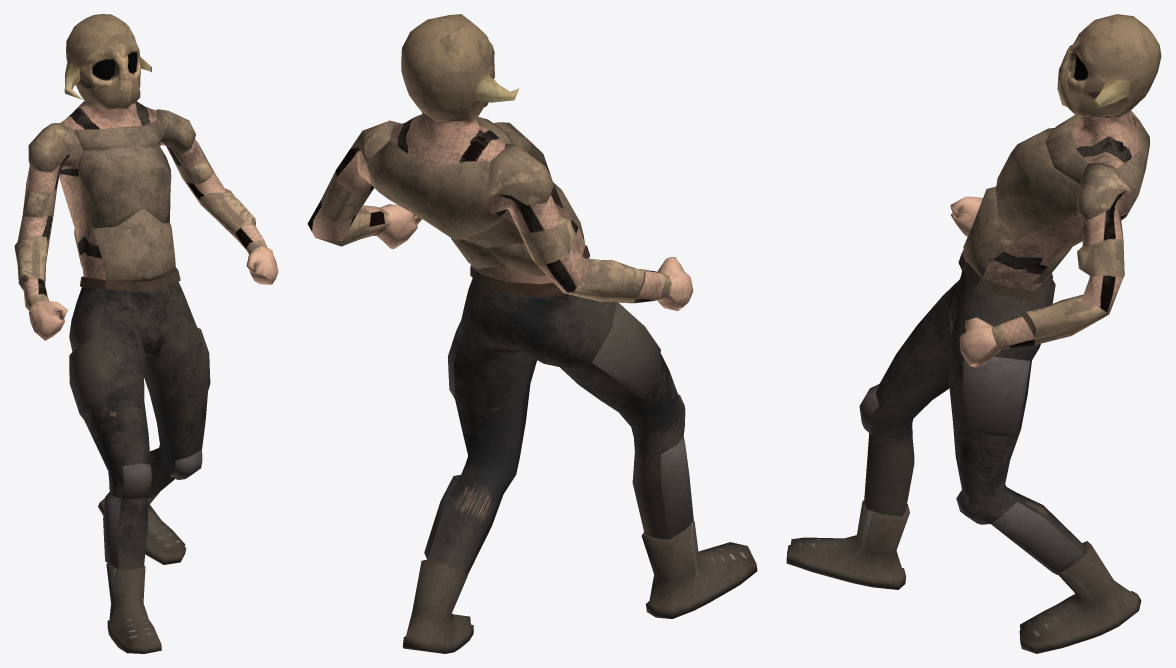
Rendered from Anim_morir_npc1.0028.obj.
3 renders of one model, left to right at view 1: azimuth 30°, elevation 25°; view 2: azimuth 150°, elevation 25°; view 3: azimuth 270°, elevation 25°, orthographic. The views are drawn at different scales.
Parts seen in each view (by area): view 1: NPC2; view 2: NPC2; view 3: NPC2.
Part boxes in pixels (box(x1,y1,x2,y2)): NPC2: box(14, 14, 278, 653); NPC2: box(307, 14, 757, 653); NPC2: box(786, 14, 1161, 653).
Size of the model in its own units: 4.32 by 8.71 by 4.85.
